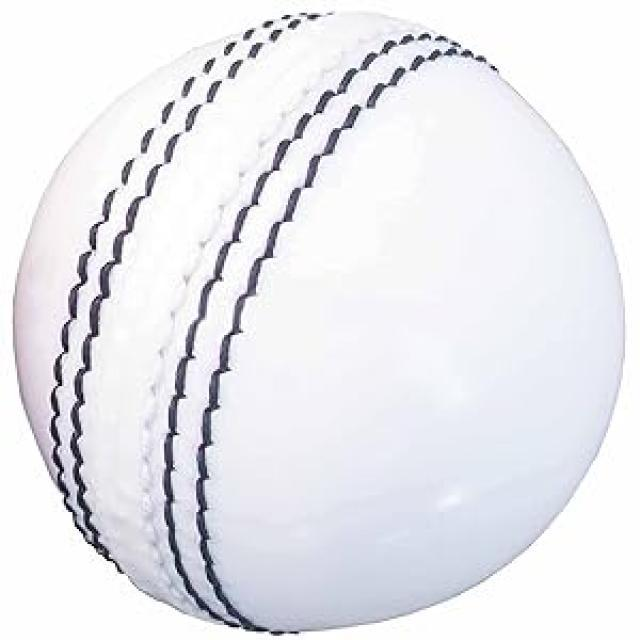cricket ball: (13, 8, 625, 635)
